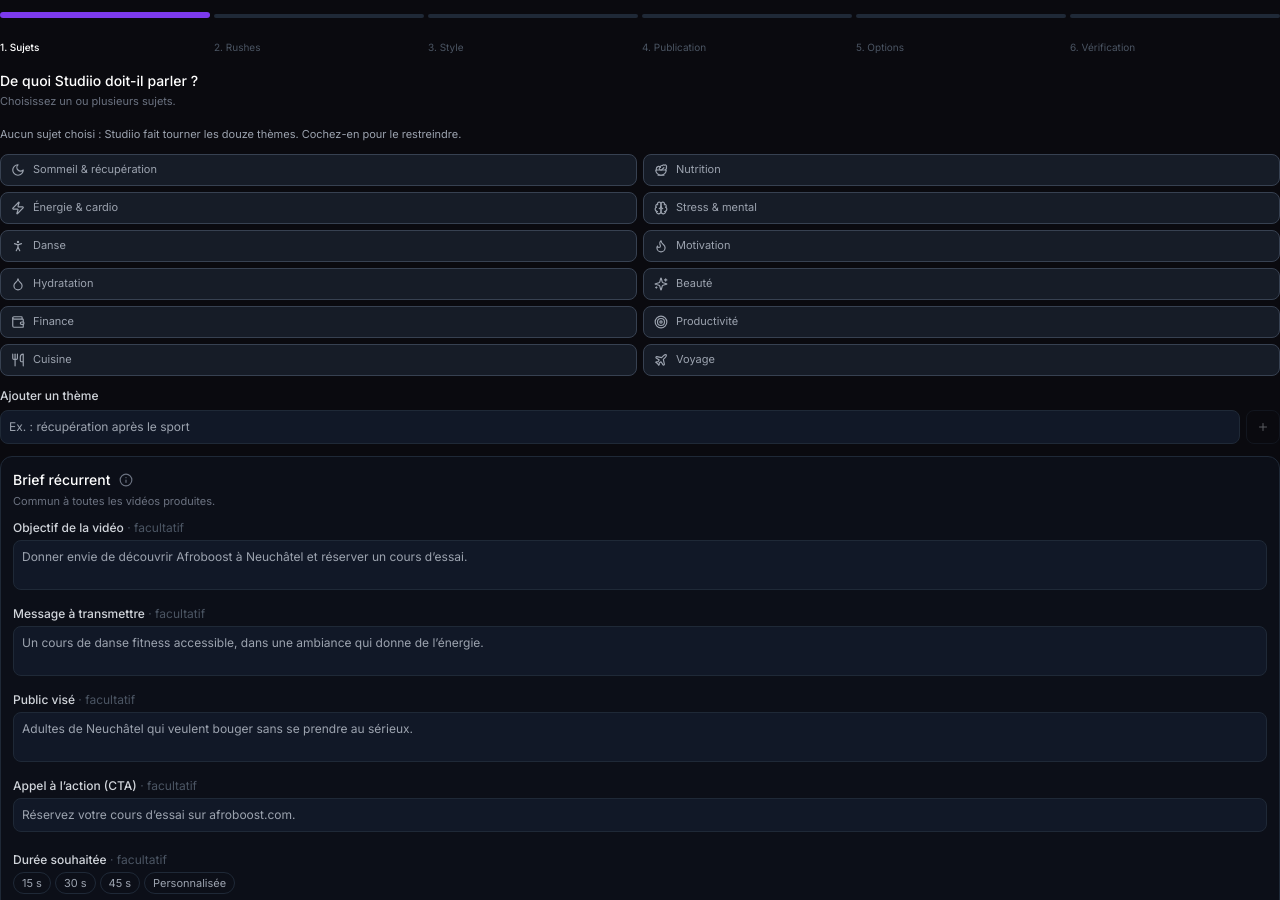
Scenario: Autopilote — guidage par étape › étape Options : facultative, voix off IA payante annoncée, protection des crédits
This screenshot has width=1280, height=900.
Expected: the text "De quoi Studiio doit-il parler ?" is shown, [0,72,198,89]
Step 1. Click the button named "Options" → [961, 16], box [856,14,1066,18]
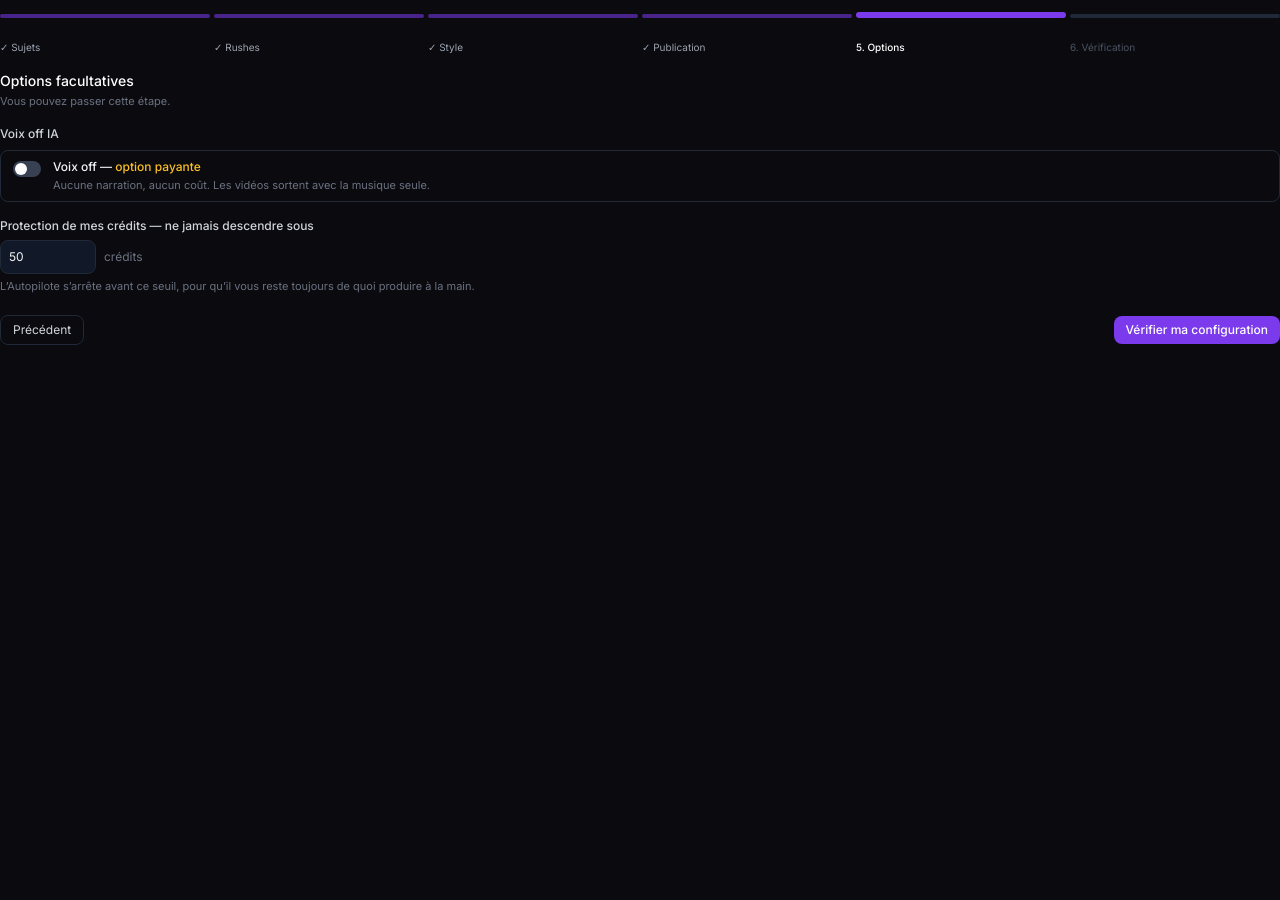
Result: the text "Voix off IA" is shown at [0,126,59,140]
Result: the text "option payante" is shown at [115,158,201,174]
Result: the text "Protection de mes crédits" is shown at [0,218,314,233]
